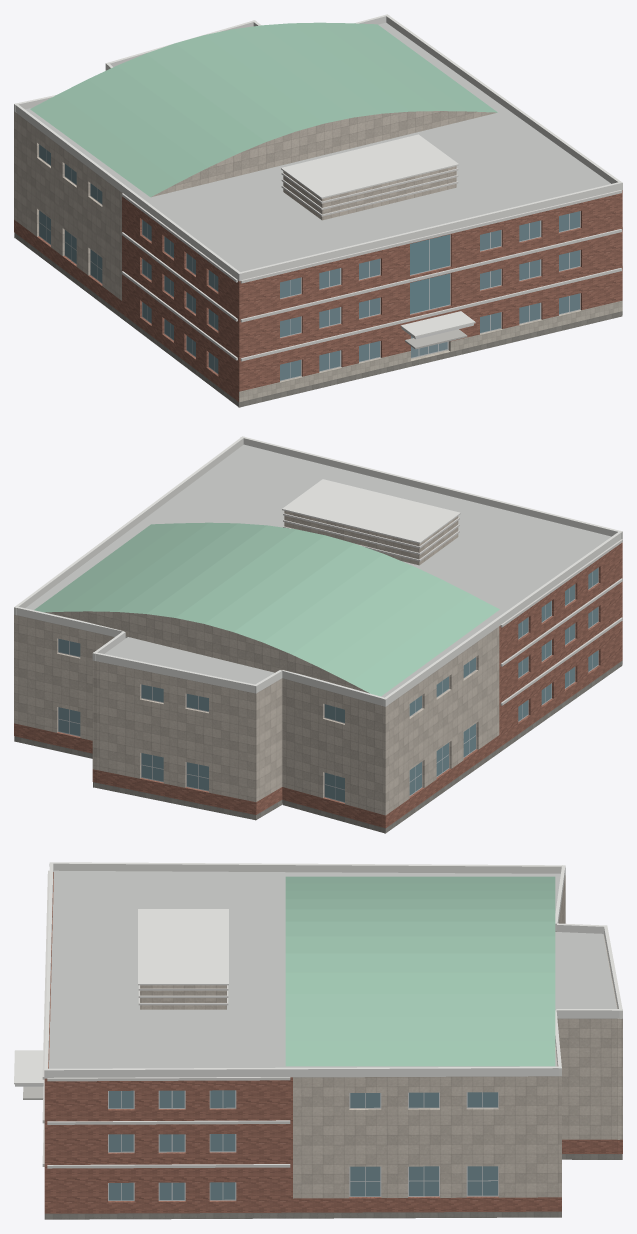
3 renders of one model, top to bottom at view 1: azimuth 30°, elevation 25°; view 2: azimuth 150°, elevation 25°; view 3: azimuth 270°, elevation 25°, orthographic. The views are drawn at different scales.
Visible parts, largest first — view 1: const__brick, const__archroof, const__roof, const__panel, const__cap, const__glass, const__trim, const__stone, const__plinth, const__curtainglass, const__frame, const__foundation (+1 smaller); view 2: const__panel, const__archroof, const__roof, const__brick, const__cap, const__glass, const__trim, const__plinth, const__frame, const__foundation; view 3: const__archroof, const__roof, const__panel, const__brick, const__cap, const__glass, const__trim, const__plinth, const__frame, const__foundation.
Part boxes in pixels (left/top/right/bottom): const__brick: left=14, top=190, right=622, bottom=401; const__archroof: left=30, top=22, right=497, bottom=197; const__roof: left=25, top=22, right=610, bottom=271; const__panel: left=14, top=111, right=496, bottom=300; const__cap: left=14, top=14, right=622, bottom=337; const__glass: left=39, top=144, right=579, bottom=380; const__trim: left=121, top=168, right=622, bottom=361; const__stone: left=239, top=300, right=622, bottom=402; const__plinth: left=14, top=232, right=622, bottom=405; const__curtainglass: left=410, top=234, right=449, bottom=313; const__frame: left=39, top=144, right=580, bottom=381; const__foundation: left=14, top=233, right=622, bottom=407; const__panel: left=14, top=511, right=499, bottom=815; const__archroof: left=34, top=522, right=499, bottom=696; const__roof: left=25, top=444, right=611, bottom=697; const__brick: left=14, top=542, right=622, bottom=828; const__cap: left=14, top=436, right=622, bottom=706; const__glass: left=58, top=568, right=598, bottom=802; const__trim: left=283, top=513, right=622, bottom=705; const__plinth: left=14, top=660, right=622, bottom=831; const__frame: left=58, top=567, right=598, bottom=802; const__foundation: left=14, top=661, right=622, bottom=833; const__archroof: left=285, top=876, right=555, bottom=1066; const__roof: left=49, top=870, right=616, bottom=1068; const__panel: left=140, top=875, right=622, bottom=1198; const__brick: left=44, top=872, right=622, bottom=1213; const__cap: left=14, top=862, right=622, bottom=1084; const__glass: left=109, top=1090, right=497, bottom=1200; const__trim: left=42, top=870, right=290, bottom=1168; const__plinth: left=44, top=1154, right=622, bottom=1218; const__frame: left=108, top=1090, right=498, bottom=1200; const__foundation: left=44, top=1154, right=622, bottom=1219.
Bounding box in the file's own units: 37.15 × 14.83 × 45.6.
16 materials, 6 textured.
